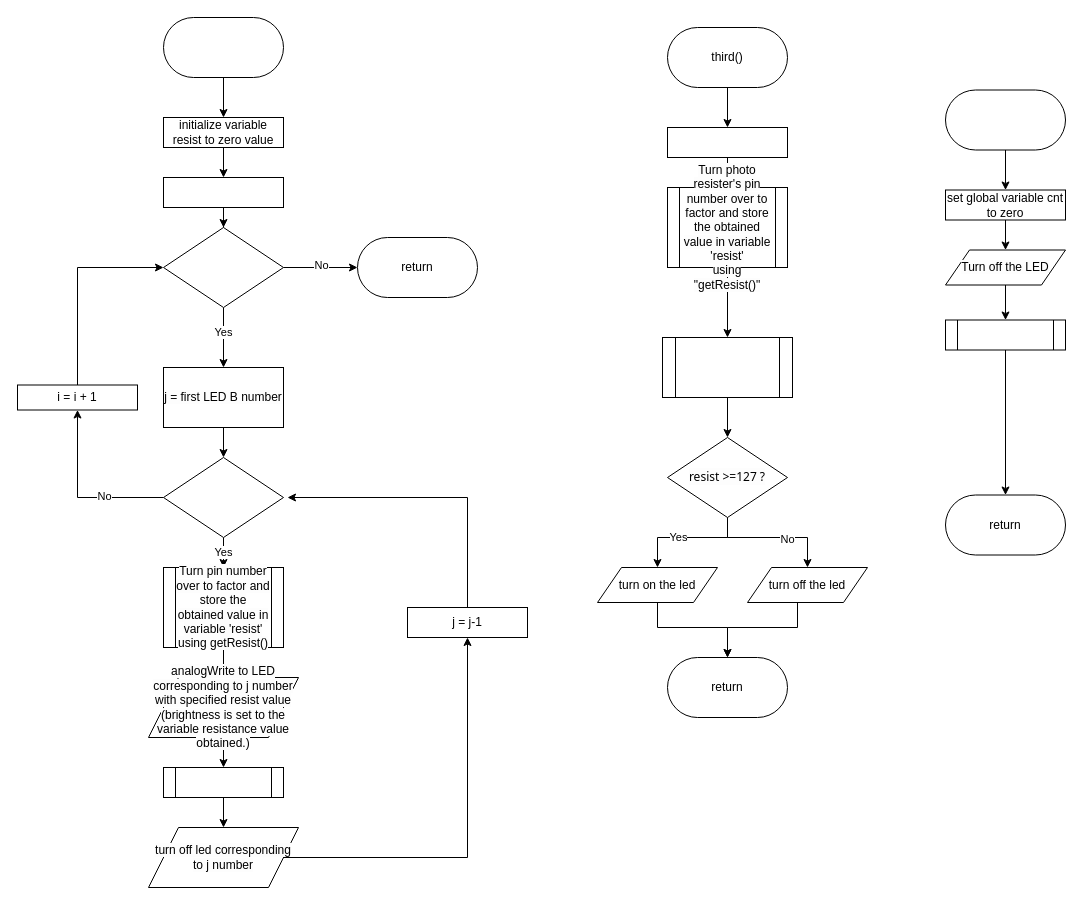
Some shapes in this 1083 by 905 pixel diagram are drawn without their labels. The box of each missing label's shape, as (x1, y1, x2, y2) in pixels:
change reverse the resister's value using map function: (662, 336, 792, 398)
declare variable resist: (666, 126, 788, 158)
delay(1000): (162, 766, 284, 798)
delay(5000): (944, 319, 1066, 350)
fourth(): (944, 89, 1066, 150)
i < 3 ?: (162, 226, 284, 308)
i = 0: (162, 176, 284, 208)
j >= last LED B number?: (162, 456, 284, 538)
second(): (162, 16, 284, 78)
